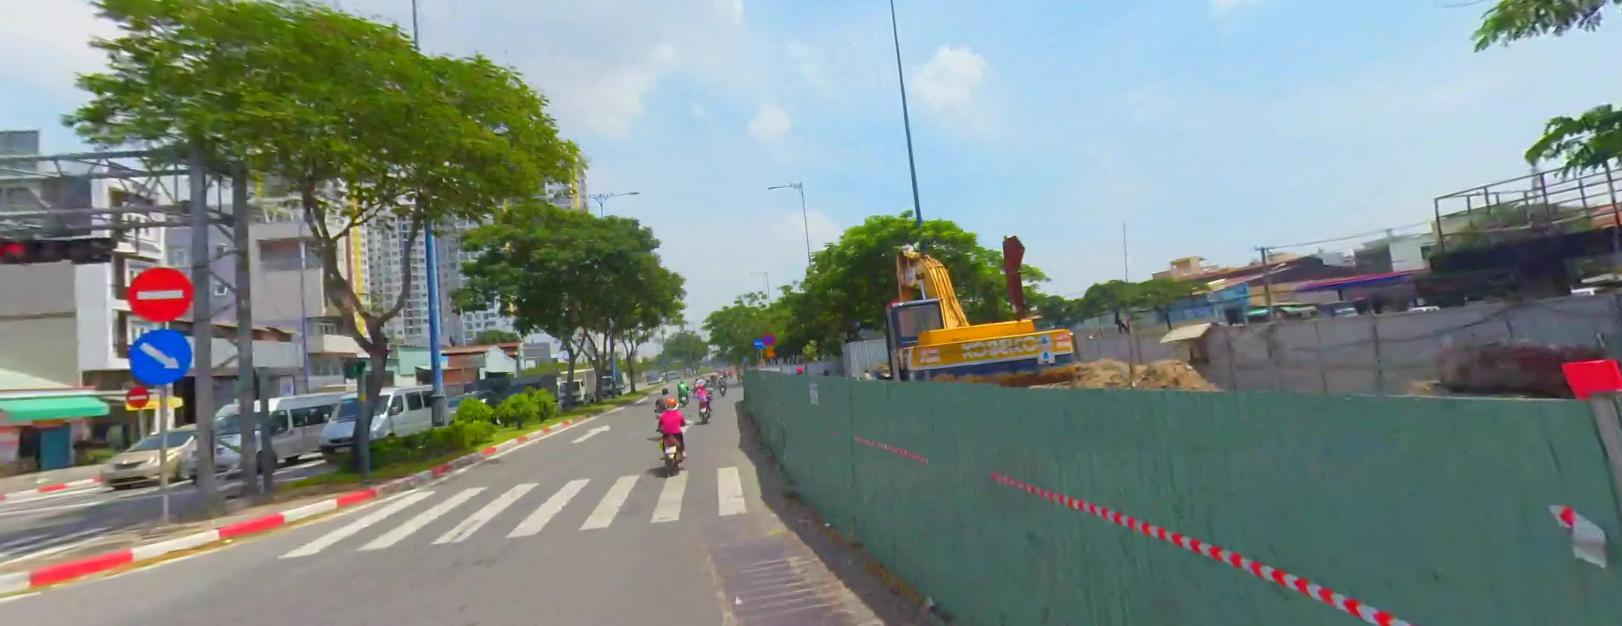Cam dung va do: (762, 331, 775, 342)
Cam nguoc chieu: (128, 265, 192, 320)
Hieu lenh: (126, 329, 193, 383)
Nguy hiem: (764, 344, 776, 355)
